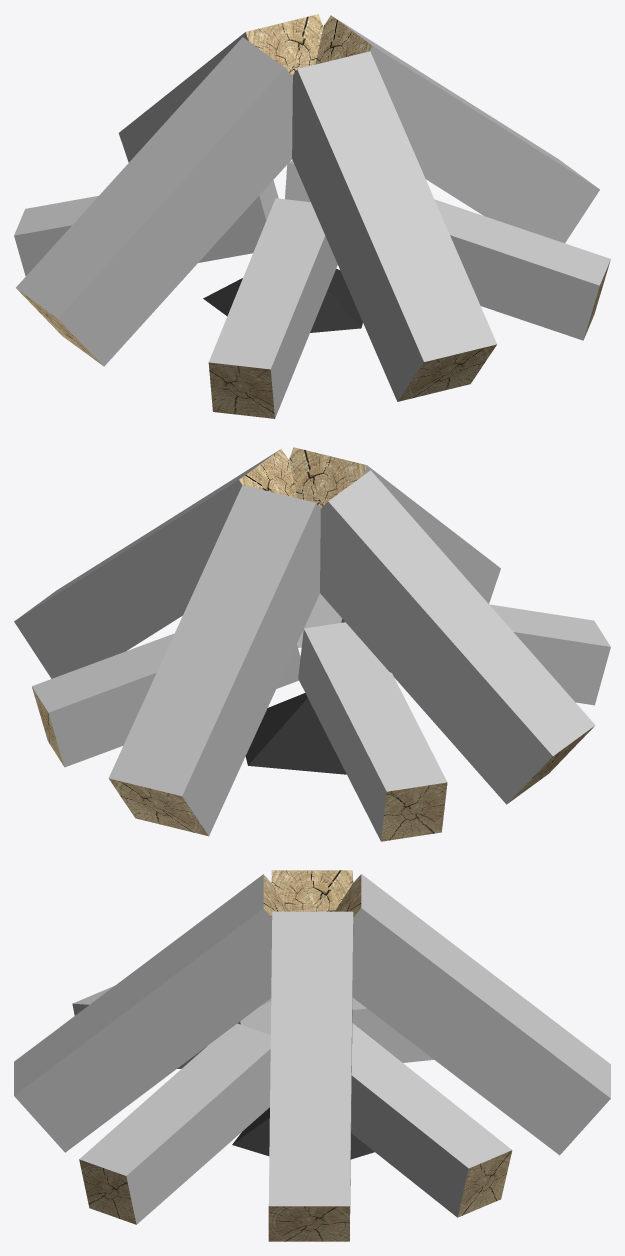
File: campfire.fbx
The picture shows the model from 3 angles, top to bottom: view 1: azimuth 30°, elevation 25°; view 2: azimuth 150°, elevation 25°; view 3: azimuth 270°, elevation 25°; orthographic projection. The views are drawn at different scales.
Visible parts, largest first — view 1: Campfire; view 2: Campfire; view 3: Campfire.
Part boxes in pixels (box(x1,y1,x2,y2)): Campfire: box(14, 14, 610, 418); Campfire: box(14, 447, 610, 841); Campfire: box(14, 870, 610, 1241).
Bounding box in the file's own units: 442 × 203 × 442.
